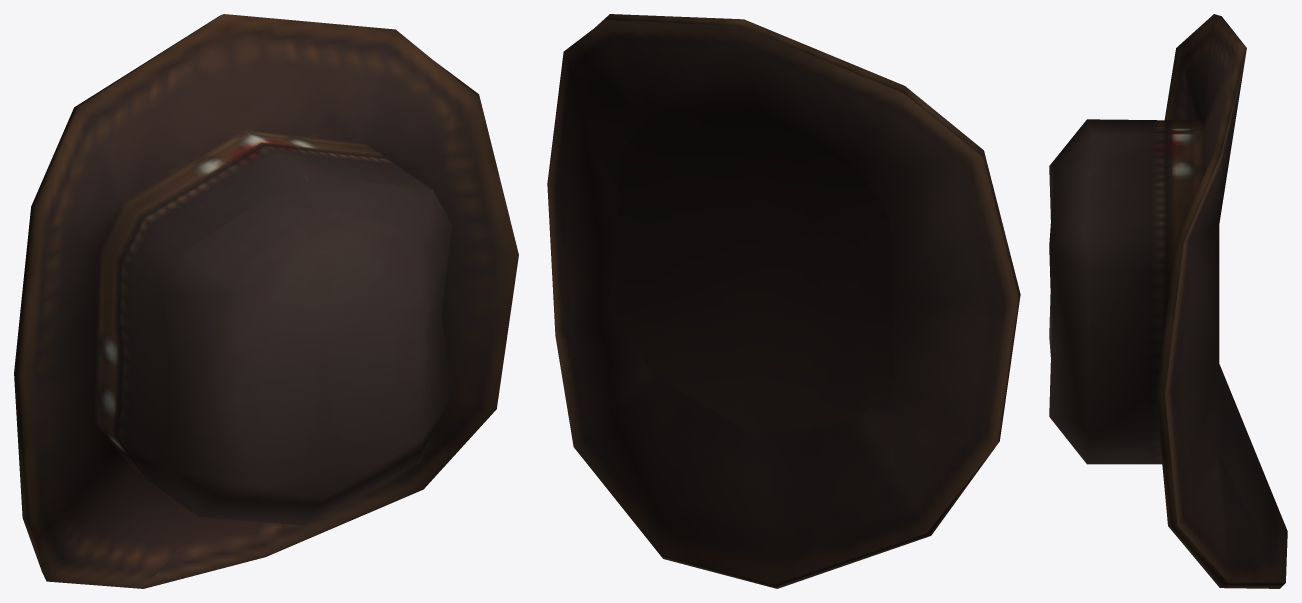
File: Avatar_Cowboy_H_01_1_94cee4ce__Avatar_Cowboy_A_01_00423260_c1f257.obj
3 renders of one model, left to right at view 1: azimuth 30°, elevation 25°; view 2: azimuth 150°, elevation 25°; view 3: azimuth 270°, elevation 25°, orthographic. The views are drawn at different scales.
Size of the model in its own units: 1.27 by 1.39 by 0.5793.
1 material, 1 textured.
